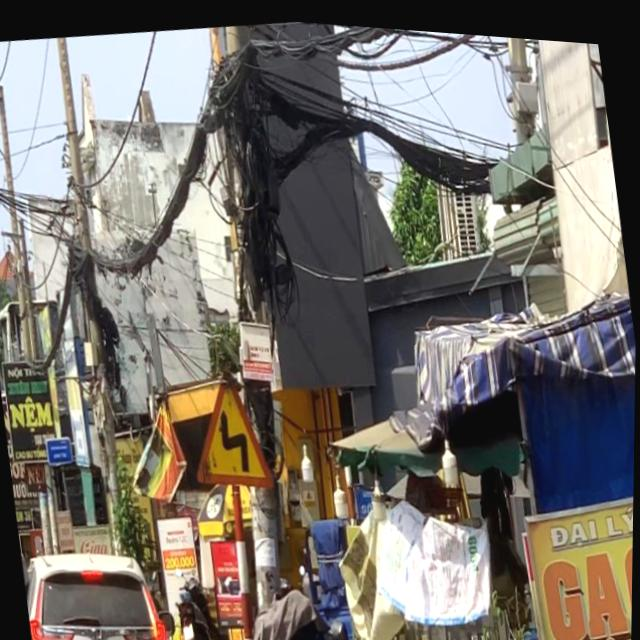Nhieu cho ngoat lien tiep ben trai: (176, 350, 283, 501)
